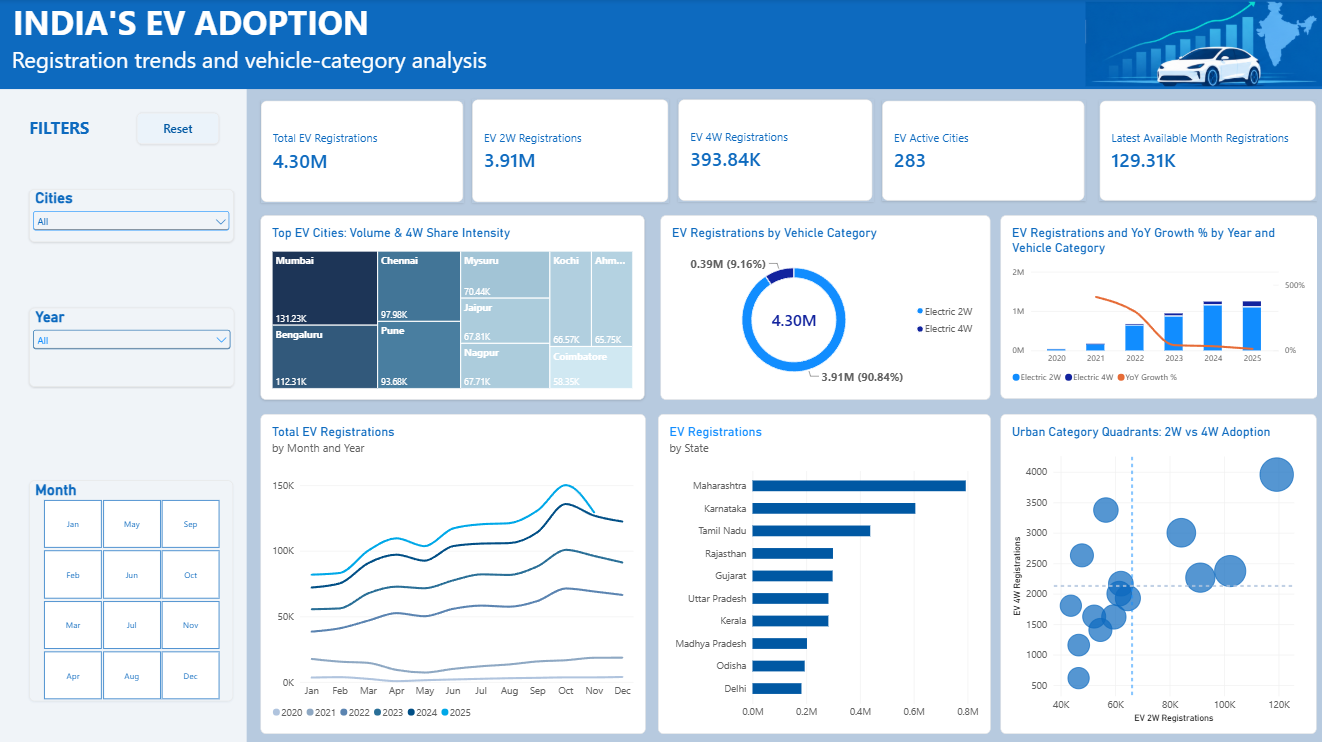

Layout of this report page (visuals, bound fields, positions):
{"tool":"powerbi","page":{"name":"Registration trends and vehicle-category analysis","canvas":[1920,1080],"ordinal":0},"visuals":[{"type":"shape","box":[0,130.3,360.1,946.5],"z":0},{"type":"textbox","box":[0,0,1920,130],"z":1000},{"type":"cardVisual","fields":{"Data":["EV_Registrations_Monthly_City.Total EV Registrations"]},"box":[379.8,146.6,294.3,148.6],"z":2000},{"type":"cardVisual","fields":{"Data":["EV_Registrations_Monthly_City.EV 4W Registrations"]},"box":[984.5,144.8,282.9,148.6],"z":3000},{"type":"cardVisual","fields":{"Data":["EV_Charging_Sites.EV Active Cities"]},"box":[1279.4,146.6,295,146.6],"z":4000},{"type":"cardVisual","fields":{"Data":["EV_Registrations_Monthly_City.EV 2W Registrations"]},"box":[685.5,145.2,285.7,150],"z":5000},{"type":"barChart","title":"EV Registrations by State","fields":{"Category":["Dim_Cities.State"],"Y":["EV_Registrations_Monthly_City.Total EV Registrations"]},"box":[955.5,600.8,481.4,463.3],"z":6000},{"type":"lineStackedColumnComboChart","title":"EV Registrations and YoY Growth % by Year and Vehicle Category","fields":{"Category":["Dim_Date.Year"],"Series":["EV_Registrations_Monthly_City.Vehicle_Category"],"Y":["EV_Registrations_Monthly_City.Total EV Registrations"],"Y2":["EV_Registrations_Monthly_City.YoY Growth %"]},"box":[1451.1,312.9,459,265.5],"z":7000},{"type":"donutChart","title":"EV Registrations by Vehicle Category","fields":{"Category":["EV_Registrations_Monthly_City.Vehicle_Category"],"Y":["EV_Registrations_Monthly_City.Total EV Registrations"]},"box":[959.2,312.9,477.5,267.6],"z":8000},{"type":"textbox","box":[21.4,0,554.3,71.4],"z":9000},{"type":"textbox","box":[20,65.7,707.1,51.4],"z":10000},{"type":"slicer","fields":{"Values":["Dim_Date.Month"]},"box":[45.2,696.7,295,320.3],"z":11000},{"type":"slicer","title":"Cities","fields":{"Values":["Dim_Cities.City"]},"box":[45.2,275.1,295.7,77.1],"z":12000},{"type":"image","box":[1575,0,345.7,130],"z":13000},{"type":"cardVisual","title":"Latest Available Month Registrations","fields":{"Data":["EV_Registrations_Monthly_City.EV Registrations - Latest Available Month"]},"box":[1594.3,146.6,314.9,146.6],"z":14000},{"type":"lineChart","fields":{"Category":["Dim_Date.Month"],"Series":["Dim_Date.Year"],"Y":["EV_Registrations_Monthly_City.Total EV Registrations"]},"box":[380,600.8,557.4,463.3],"z":15000},{"type":"treemap","title":"Top EV Cities: Volume & 4W Share Intensity","fields":{"Group":["Dim_Cities.City"],"Values":["EV_Registrations_Monthly_City.Total EV Registrations"]},"box":[380.8,312.9,555.7,267.6],"z":16000},{"type":"scatterChart","title":"Urban Category Quadrants: 2W vs 4W Adoption","fields":{"Category":["Dim_Cities.City"],"Size":["EV_Registrations_Monthly_City.Total EV Registrations"],"X":["EV_Registrations_Monthly_City.EV 2W Registrations"],"Y":["EV_Registrations_Monthly_City.EV 4W Registrations Jan-Sep 2025"]},"box":[1451.3,600.8,457.8,463.3],"z":17000},{"type":"textbox","box":[45.2,170.1,184.6,48.9],"z":18000},{"type":"slicer","fields":{"Values":["Dim_Date.Year"]},"box":[45.2,447,296.8,114],"z":19000},{"type":"actionButton","box":[200.9,164.7,119.4,45.2],"z":20000}]}

Visuals, with their boxes in screenshot pixels (x1, y1, x2, y2), scaled from the page's 1920x1080 canvas onto the 1322x742 screenshot:
shape: pyautogui.locateOnScreen(0, 90, 248, 740)
textbox: pyautogui.locateOnScreen(0, 0, 1321, 89)
cardVisual - EV_Registrations_Monthly_City.Total EV Registrations: pyautogui.locateOnScreen(262, 101, 464, 203)
cardVisual - EV_Registrations_Monthly_City.EV 4W Registrations: pyautogui.locateOnScreen(678, 99, 873, 202)
cardVisual - EV_Charging_Sites.EV Active Cities: pyautogui.locateOnScreen(881, 101, 1084, 201)
cardVisual - EV_Registrations_Monthly_City.EV 2W Registrations: pyautogui.locateOnScreen(472, 100, 669, 203)
"EV Registrations by State" barChart: pyautogui.locateOnScreen(658, 413, 989, 731)
"EV Registrations and YoY Growth % by Year and Vehicle Category" lineStackedColumnComboChart: pyautogui.locateOnScreen(999, 215, 1315, 397)
"EV Registrations by Vehicle Category" donutChart: pyautogui.locateOnScreen(660, 215, 989, 399)
textbox: pyautogui.locateOnScreen(15, 0, 396, 49)
textbox: pyautogui.locateOnScreen(14, 45, 501, 80)
slicer - Dim_Date.Month: pyautogui.locateOnScreen(31, 479, 234, 699)
"Cities" slicer: pyautogui.locateOnScreen(31, 189, 235, 242)
image: pyautogui.locateOnScreen(1084, 0, 1321, 89)
"Latest Available Month Registrations" cardVisual: pyautogui.locateOnScreen(1098, 101, 1315, 201)
lineChart - Dim_Date.Month x Dim_Date.Year: pyautogui.locateOnScreen(262, 413, 645, 731)
"Top EV Cities: Volume & 4W Share Intensity" treemap: pyautogui.locateOnScreen(262, 215, 645, 399)
"Urban Category Quadrants: 2W vs 4W Adoption" scatterChart: pyautogui.locateOnScreen(999, 413, 1314, 731)
textbox: pyautogui.locateOnScreen(31, 117, 158, 150)
slicer - Dim_Date.Year: pyautogui.locateOnScreen(31, 307, 235, 385)
actionButton: pyautogui.locateOnScreen(138, 113, 221, 144)
